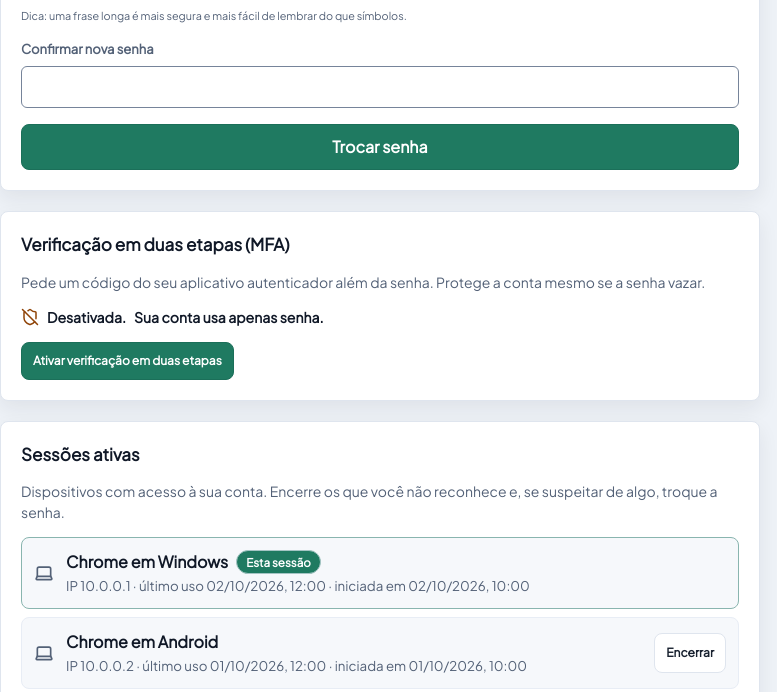
it: MFA na pagina › cancelar o assistente volta ao estado inicial
(page scrolled)
Expected: the list named "Sessões ativas" is shown, [21,537,739,689]
What coordinates should you click on to do the following:
click the button "Ativar verificação em duas etapas"
I would click on:
 (127, 361)
Its box is [21,342,234,380].
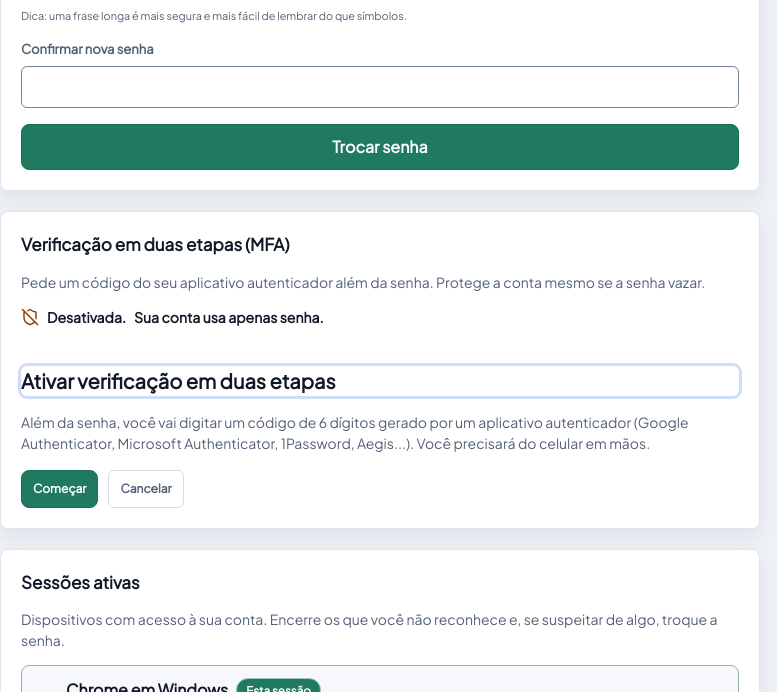
What coordinates should you click on to do the following:
click the button "Cancelar"
I would click on:
 (146, 489)
Its box is [108,470,184,508].
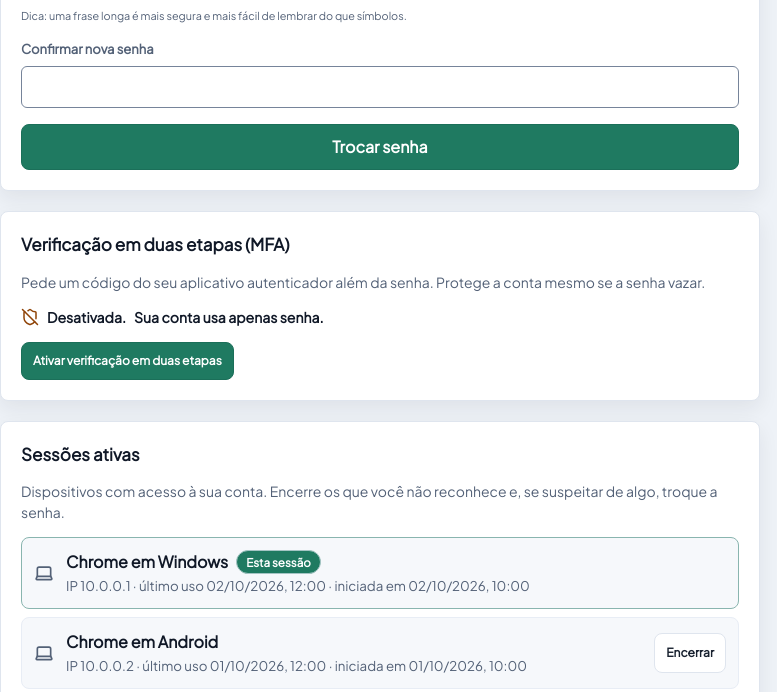
Expected: the button "Ativar verificação em duas etapas" is shown, [21,342,234,380]
